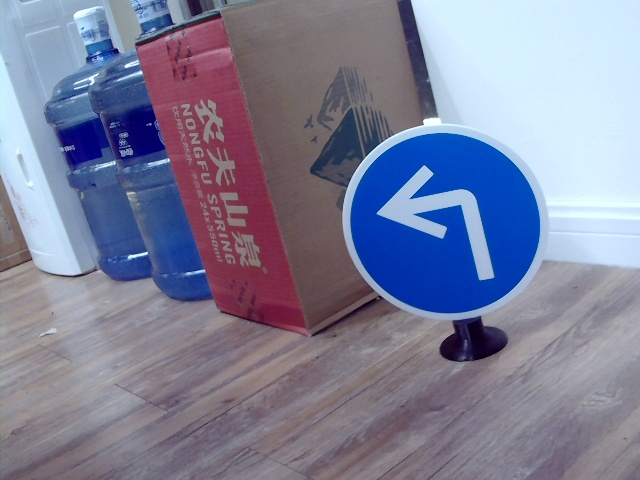turn_left: (379, 159, 506, 287)
